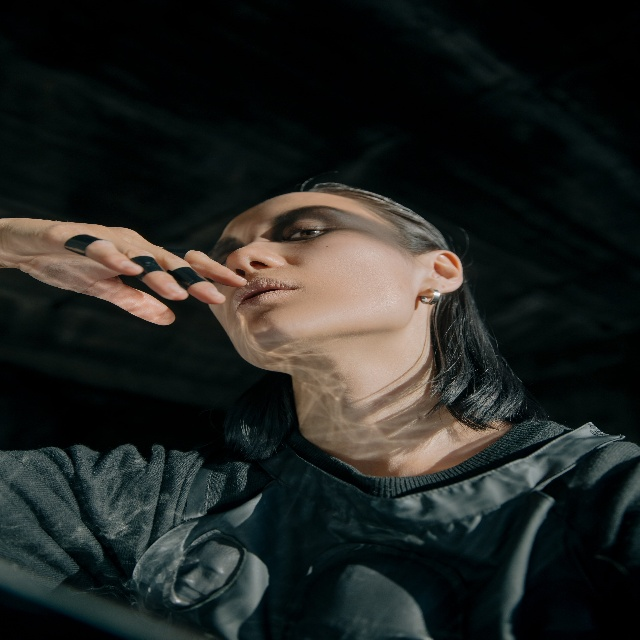Sin_guantes: (0, 220, 247, 335)
